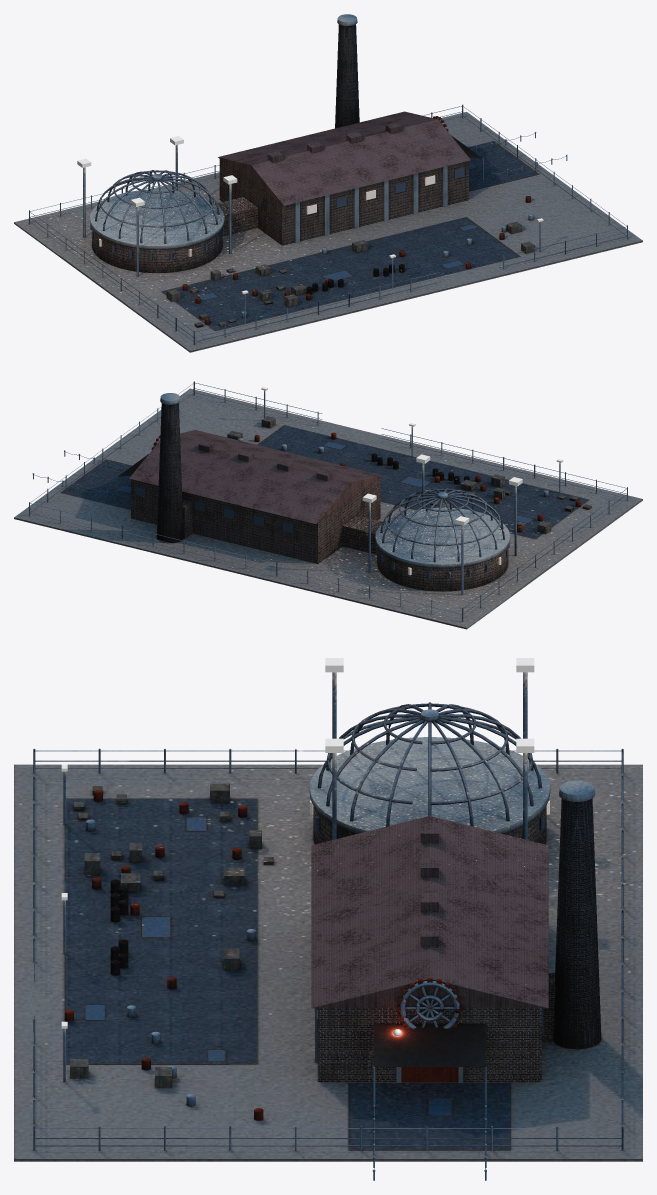
The model's file is blood_mill.glb.
3 renders of one model, top to bottom at view 1: azimuth 30°, elevation 25°; view 2: azimuth 150°, elevation 25°; view 3: azimuth 270°, elevation 25°, orthographic. The views are drawn at different scales.
Parts seen in each view (by area): view 1: site_ground, props_main, props_cage, props_yard; view 2: site_ground, props_main, props_cage, props_yard, props_entry; view 3: site_ground, props_main, props_cage, props_yard, props_entry.
Part boxes in pixels (box(x1,y1,x2,y2)): site_ground: box(14, 112, 642, 352); props_main: box(218, 14, 470, 245); props_cage: box(77, 136, 257, 276); props_yard: box(29, 104, 627, 344); site_ground: box(14, 388, 642, 629); props_main: box(129, 393, 381, 563); props_cage: box(342, 454, 522, 595); props_yard: box(29, 381, 627, 621); props_entry: box(32, 450, 148, 499); site_ground: box(14, 764, 642, 1161); props_main: box(311, 780, 601, 1082); props_cage: box(309, 658, 550, 844); props_yard: box(33, 748, 623, 1150); props_entry: box(372, 1024, 486, 1180).
Bounding box in the file's own units: 97.13 × 27.6 × 62.
Materials: 5 (5 with a texture image).
